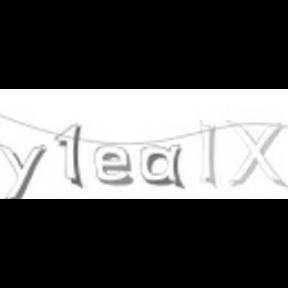1: (54, 122, 84, 190)
I: (198, 118, 220, 190)
X: (224, 116, 288, 188)
a: (138, 140, 186, 189)
e: (92, 142, 134, 186)
y: (0, 142, 48, 200)
